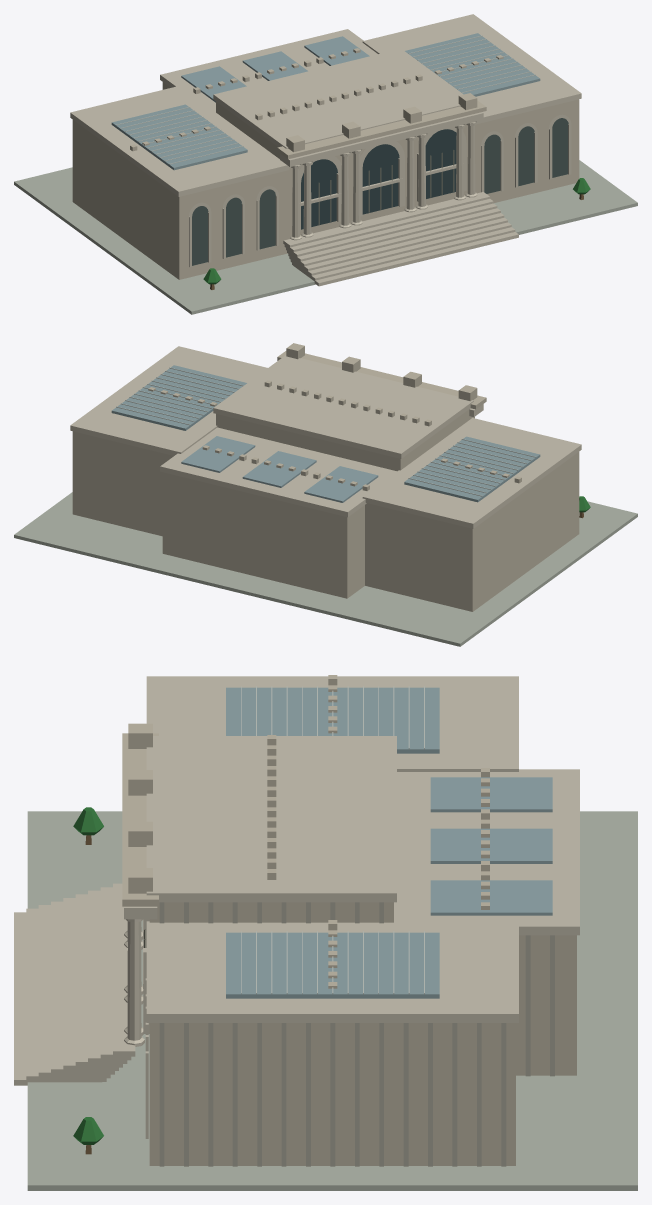
Rendered from met.glb.
3 views of the same model, one above another, from view 1: azimuth 30°, elevation 25°; view 2: azimuth 150°, elevation 25°; view 3: azimuth 270°, elevation 25° (orthographic). The views are drawn at different scales.
Parts seen in each view (by area): view 1: met-beaux-arts-pavilion-and-wings; view 2: met-beaux-arts-pavilion-and-wings; view 3: met-beaux-arts-pavilion-and-wings.
Boxes of the visible parts, <box> form: met-beaux-arts-pavilion-and-wings: <box>14,14,637,314</box>; met-beaux-arts-pavilion-and-wings: <box>14,343,637,646</box>; met-beaux-arts-pavilion-and-wings: <box>14,675,637,1190</box>.
Bounding box in the file's own units: 29 × 7.35 × 20.45.
